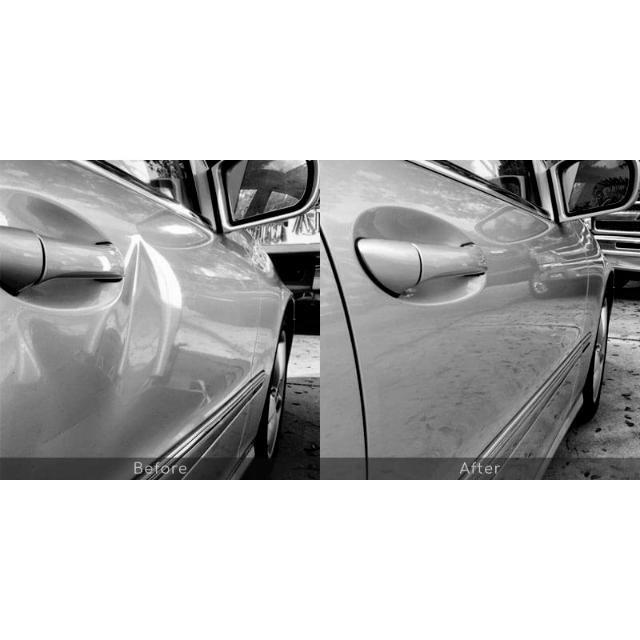doorouter-dent: (1, 170, 237, 478)
